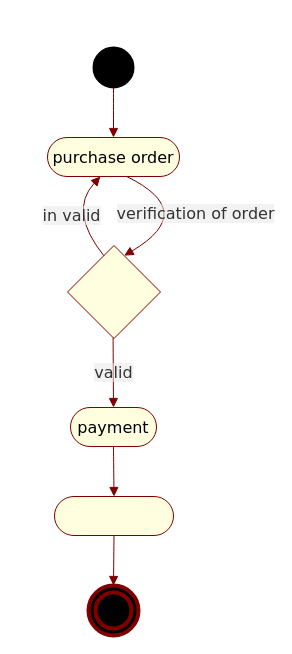
This 292x654 diagram has some shape labels left out. Here are the shapes that lost their labels. From the top down, the box of each, then its label:
(66, 244, 160, 338): invalid
(54, 496, 174, 536): delivery item
